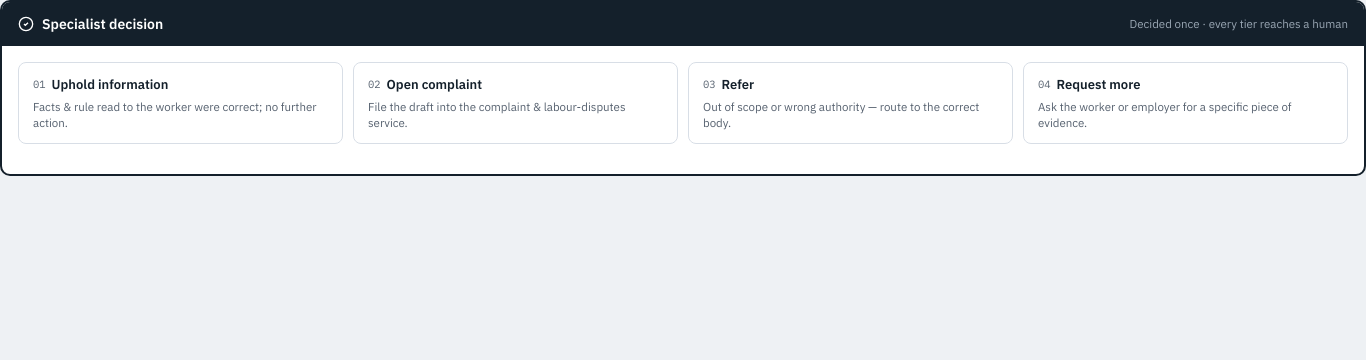
Test: DecisionPanel — loading state › disables inputs and shows a "Recording…" label while submitting
The width and height of the screenshot is (1366, 360).
Step 1. Click the radio button labelled "Uphold information" → [180, 103], box top-left (18, 62), bottom-right (343, 144)
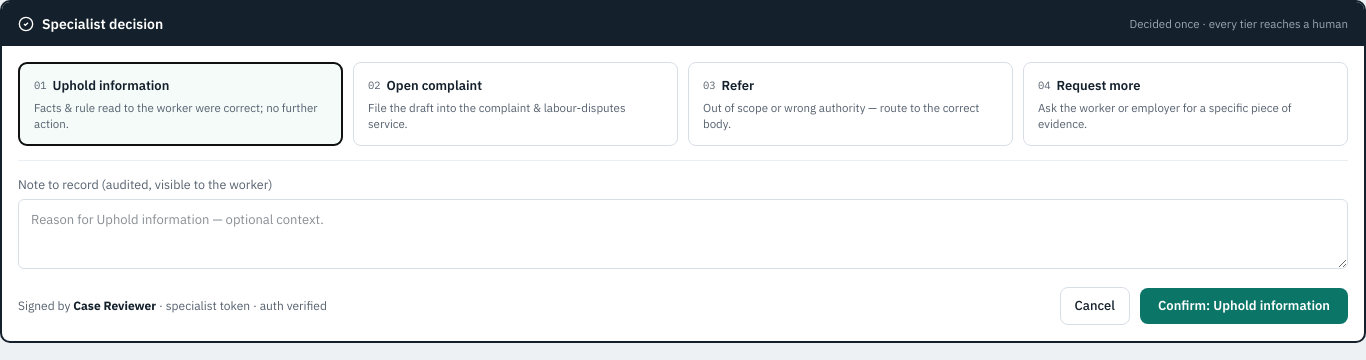
Step 2. Click the button "Confirm: Uphold information" → [1244, 306], box top-left (1140, 288), bottom-right (1348, 324)
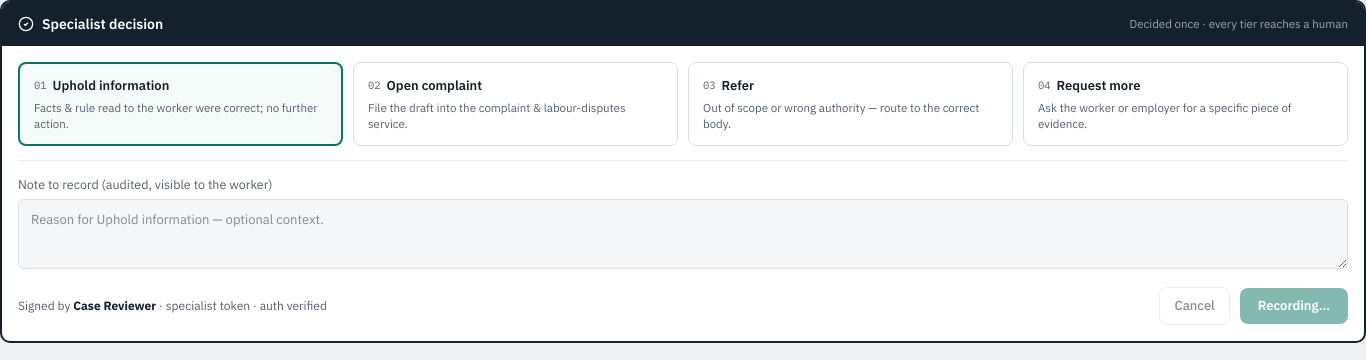
Check: the text box labelled "Note to record (audited, visible to the worker)" is disabled, box top-left (18, 199), bottom-right (1348, 269)
Check: the button "Recording…" is disabled, box top-left (1240, 288), bottom-right (1348, 324)
Check: the button "Cancel" is disabled, box top-left (1159, 287), bottom-right (1230, 325)
